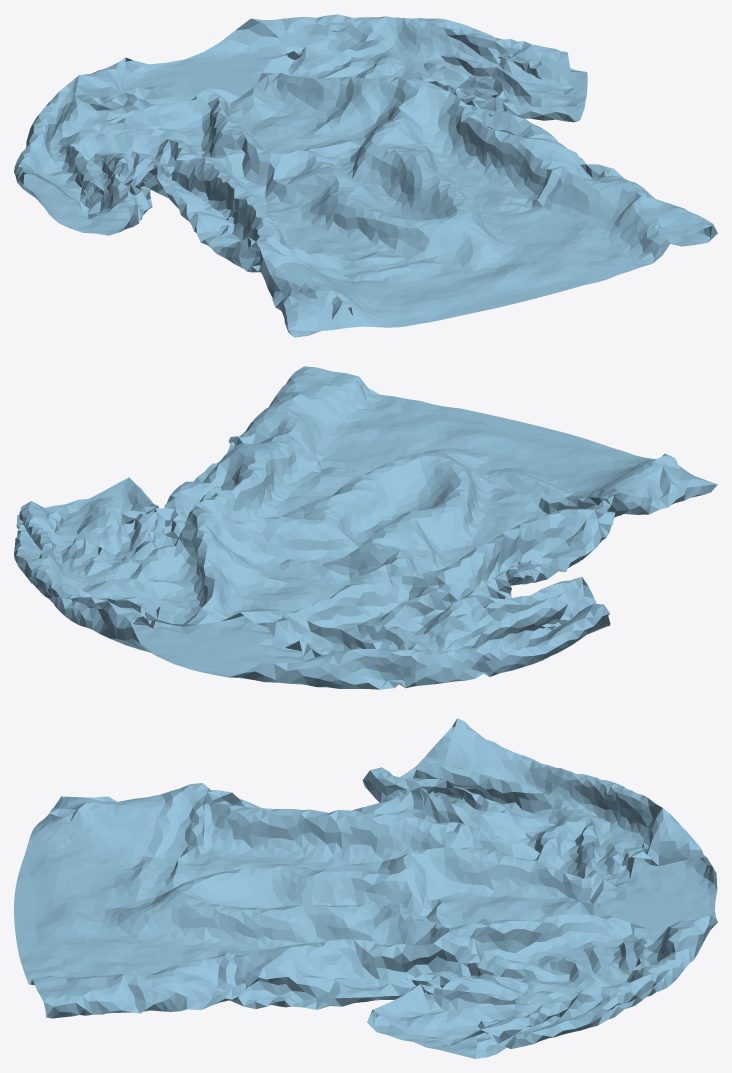
Rendered from frame_02.glb.
3 views of the same model, one above another, from view 1: azimuth 30°, elevation 25°; view 2: azimuth 150°, elevation 25°; view 3: azimuth 270°, elevation 25° (orthographic). The views are drawn at different scales.
Visible parts, largest first — view 1: frame_02.obj; view 2: frame_02.obj; view 3: frame_02.obj.
Part boxes in pixels (left/top/right/bottom): frame_02.obj: left=14, top=14, right=717, bottom=337; frame_02.obj: left=14, top=366, right=717, bottom=689; frame_02.obj: left=14, top=718, right=717, bottom=1058.
Size of the model in its own units: 1.69 by 0.1439 by 1.71.
